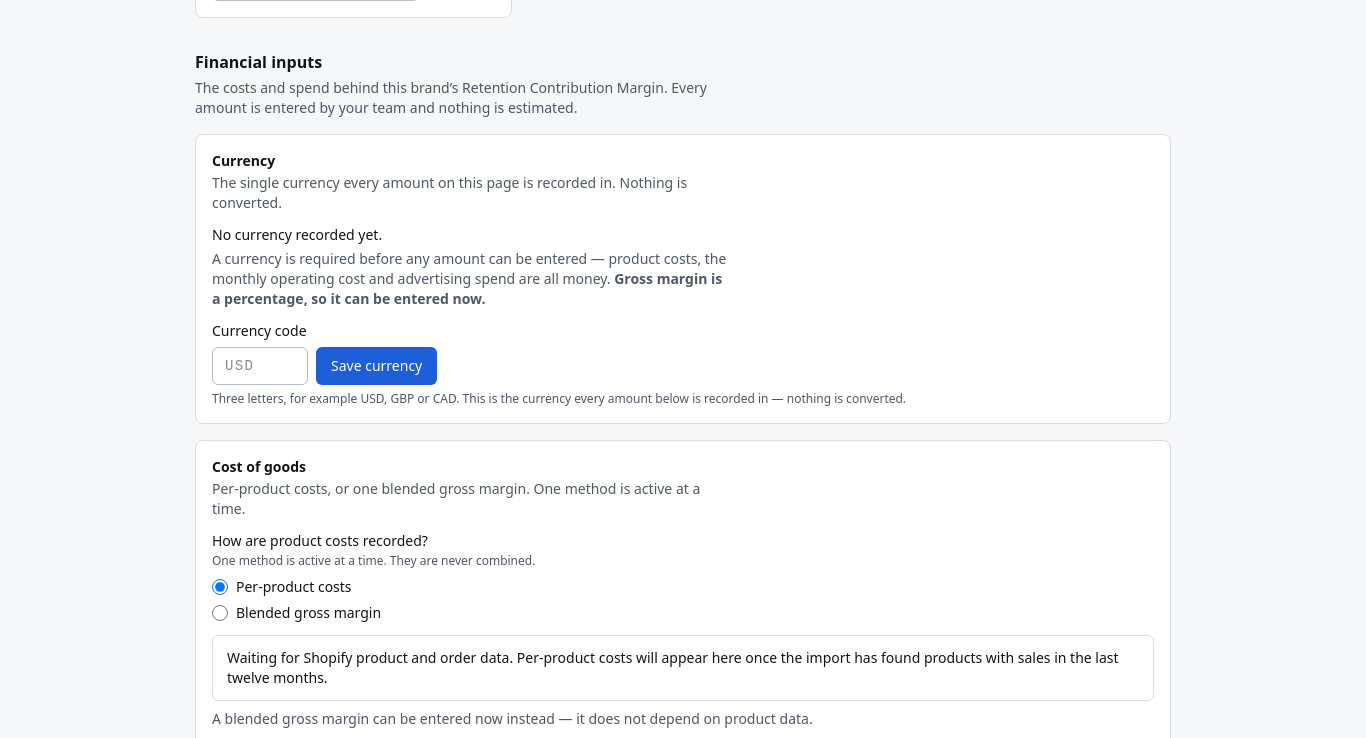
the currency control › refuses a code that is not exactly three letters, without a request
The image size is (1366, 738).
(page scrolled)
Type "US" into the field labelled "Currency code" at (260, 366), box [212,347,308,385]
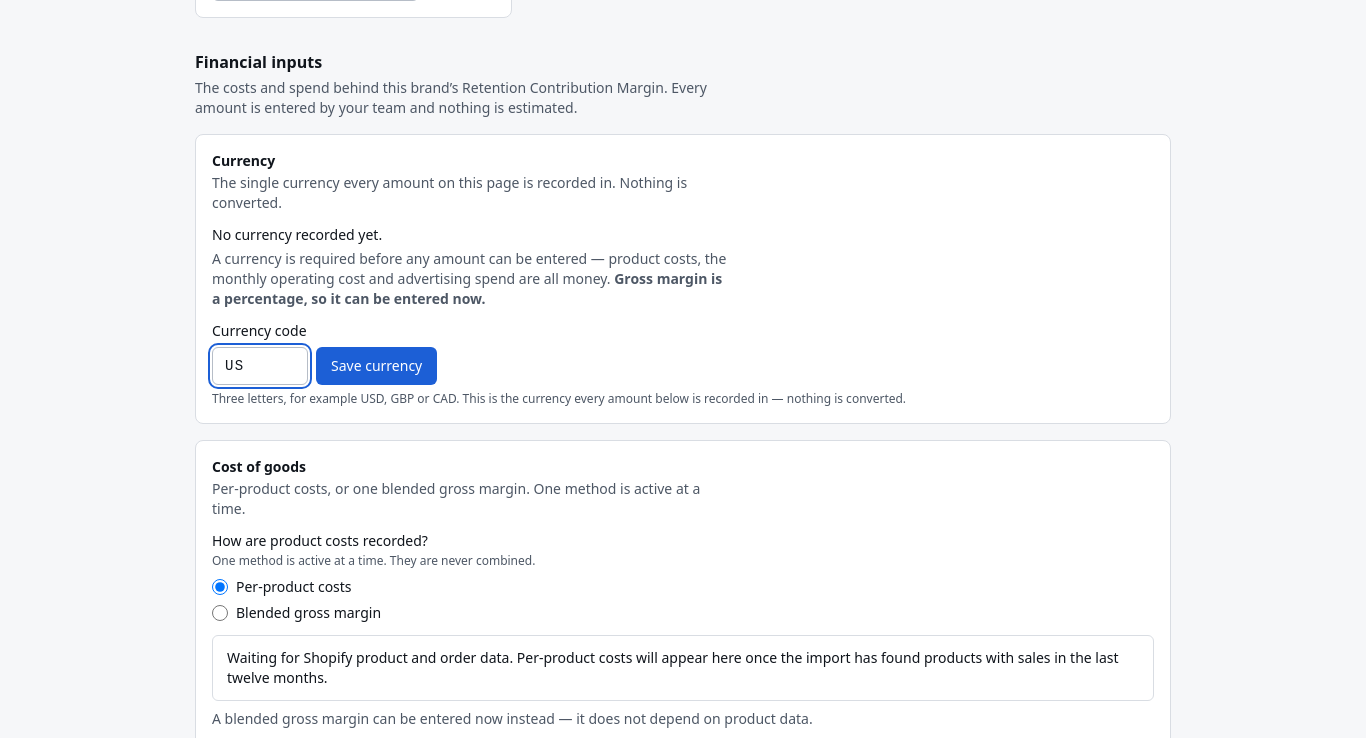
Click the button "Save currency" at (377, 366), box [316,347,437,385]
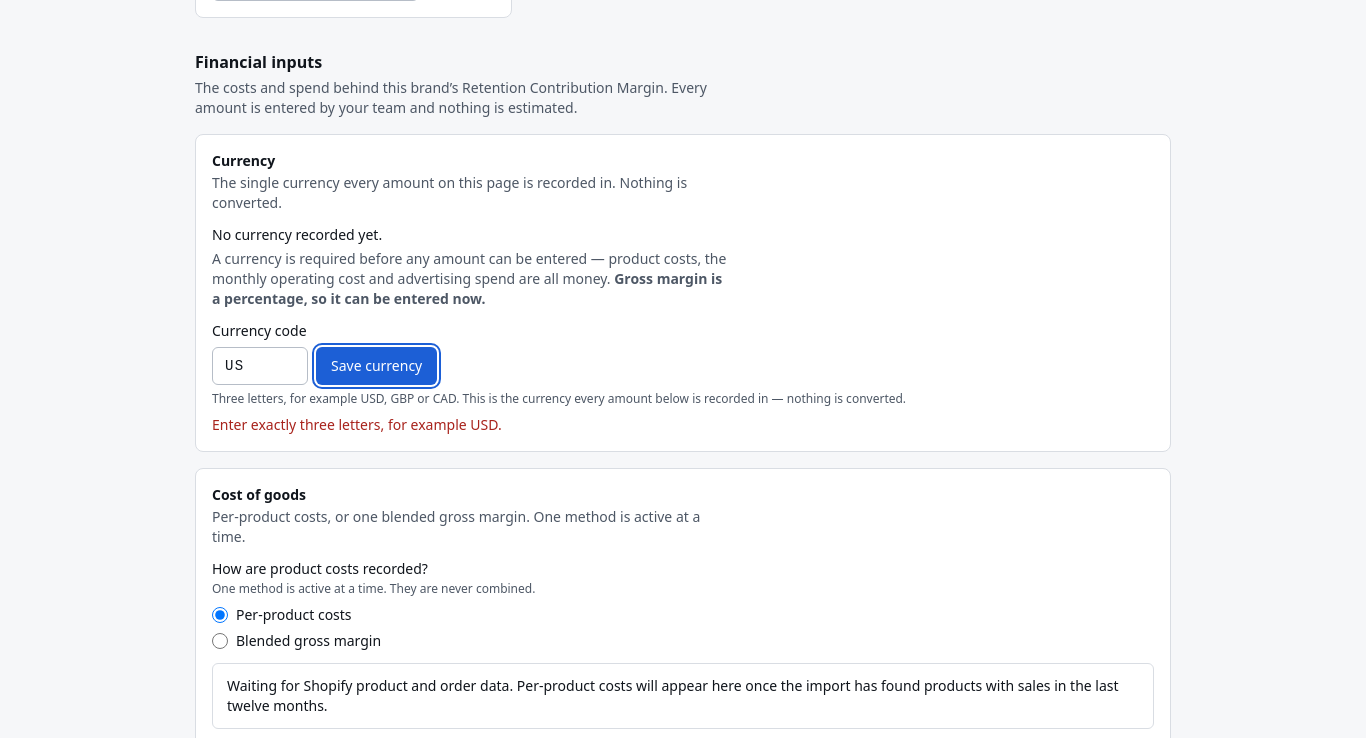
Now the text "Enter exactly three letters, for example USD." is shown, box [212,415,502,434]
